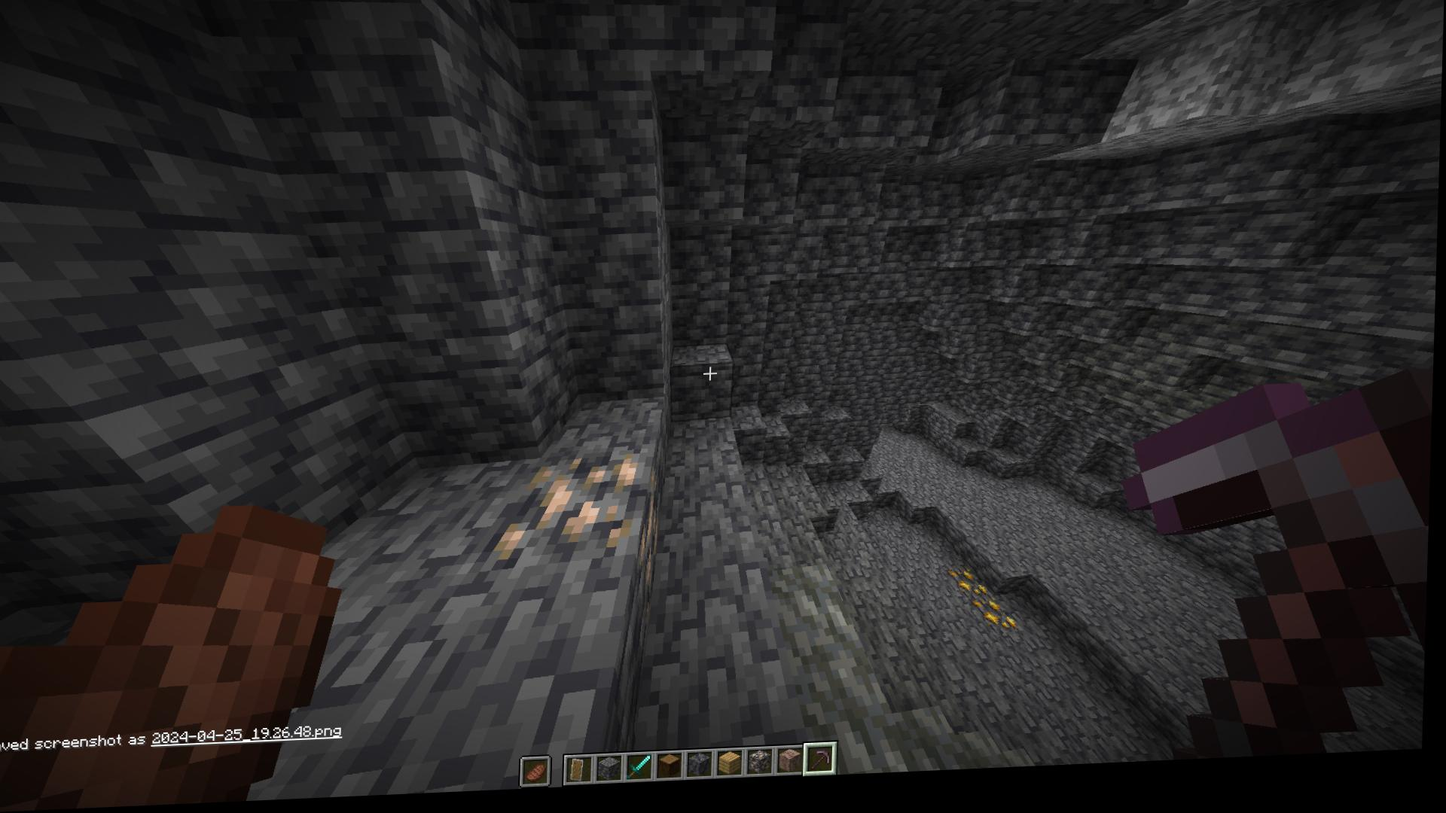gold ore: (952, 572, 1024, 649)
iron ore: (499, 458, 669, 590)
